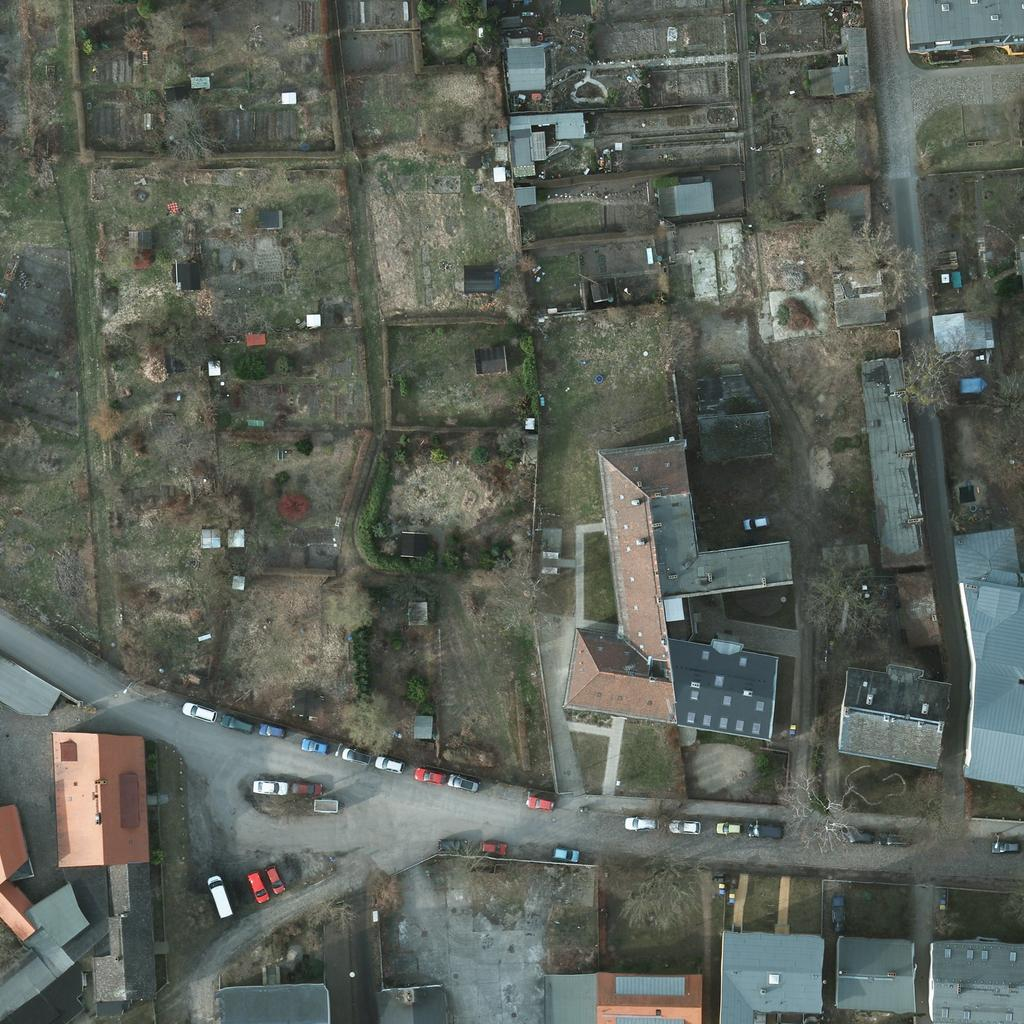car: (739, 505, 773, 539), (181, 694, 215, 728), (221, 705, 255, 739), (255, 713, 289, 747), (301, 728, 335, 762), (340, 738, 374, 772), (372, 746, 406, 780), (415, 757, 449, 791), (446, 765, 480, 799), (252, 769, 286, 803), (287, 771, 321, 805), (526, 785, 560, 819), (623, 805, 657, 839), (670, 808, 704, 842), (712, 809, 746, 843), (876, 820, 910, 854), (434, 826, 468, 860), (472, 829, 506, 863), (990, 829, 1024, 863), (546, 837, 580, 871), (257, 860, 291, 894), (240, 869, 274, 903), (199, 874, 233, 908), (821, 898, 855, 932)
